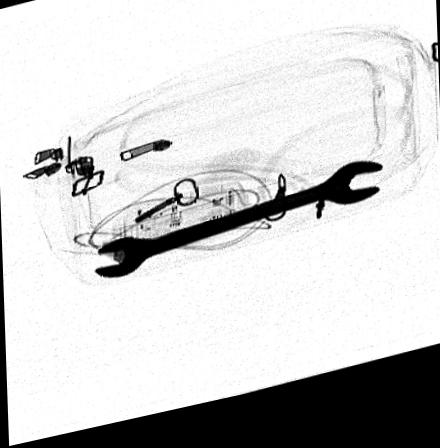Wrench: (92, 175, 382, 281)
